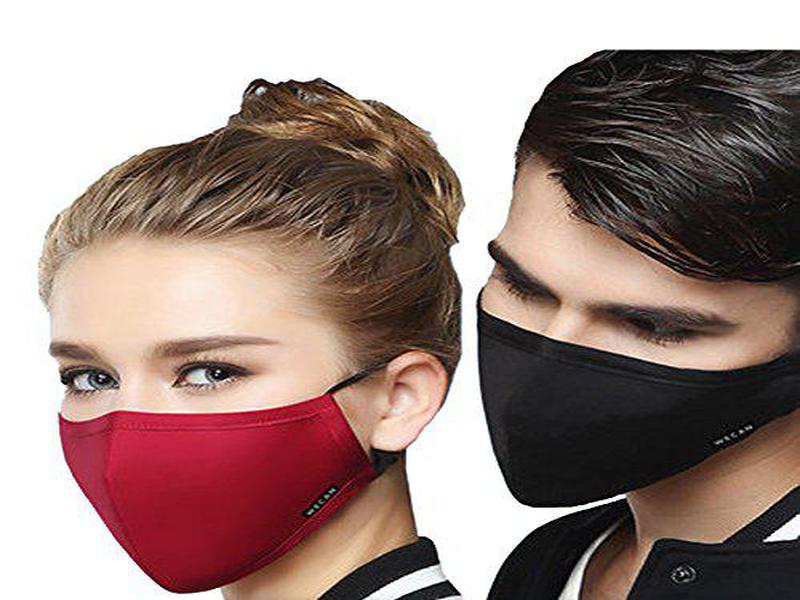with_mask: (33, 85, 464, 600), (477, 51, 800, 519)
